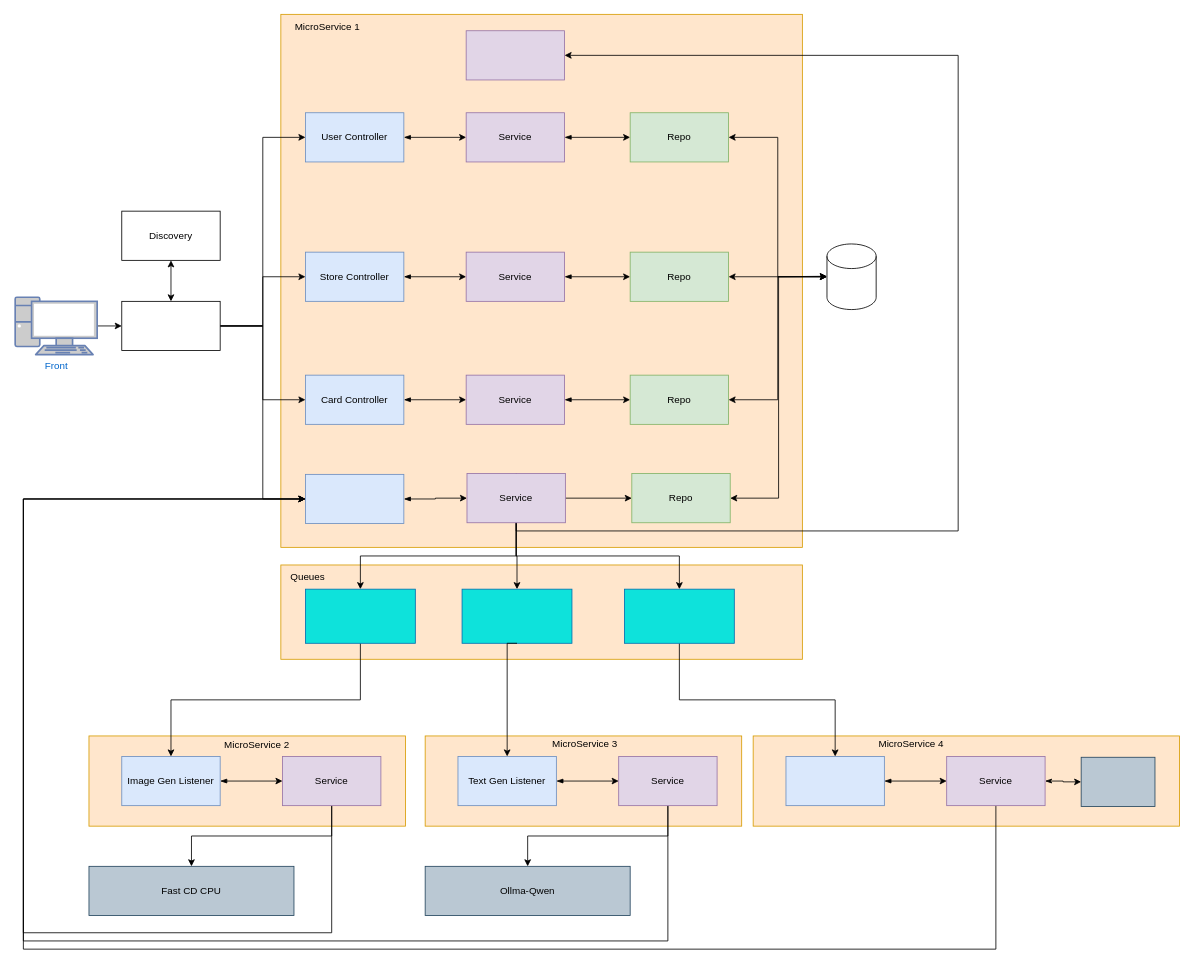
Some shapes in this 1194 by 970 pixel diagram are drawn without their labels. Here are the shapes that lost their labels. From the top down, the centre of each, then its label:
At (x=515, y=55): "NotifierService".
At (x=851, y=276): "DB".
At (x=170, y=326): "Proxy".
At (x=354, y=499): "Card Generator Controller".
At (x=360, y=615): "Image Queue".
At (x=516, y=615): "Text Queue".
At (x=679, y=615): "Stat Queue".
At (x=834, y=781): "Stats gen Listener".
At (x=1117, y=781): "Librairie".
